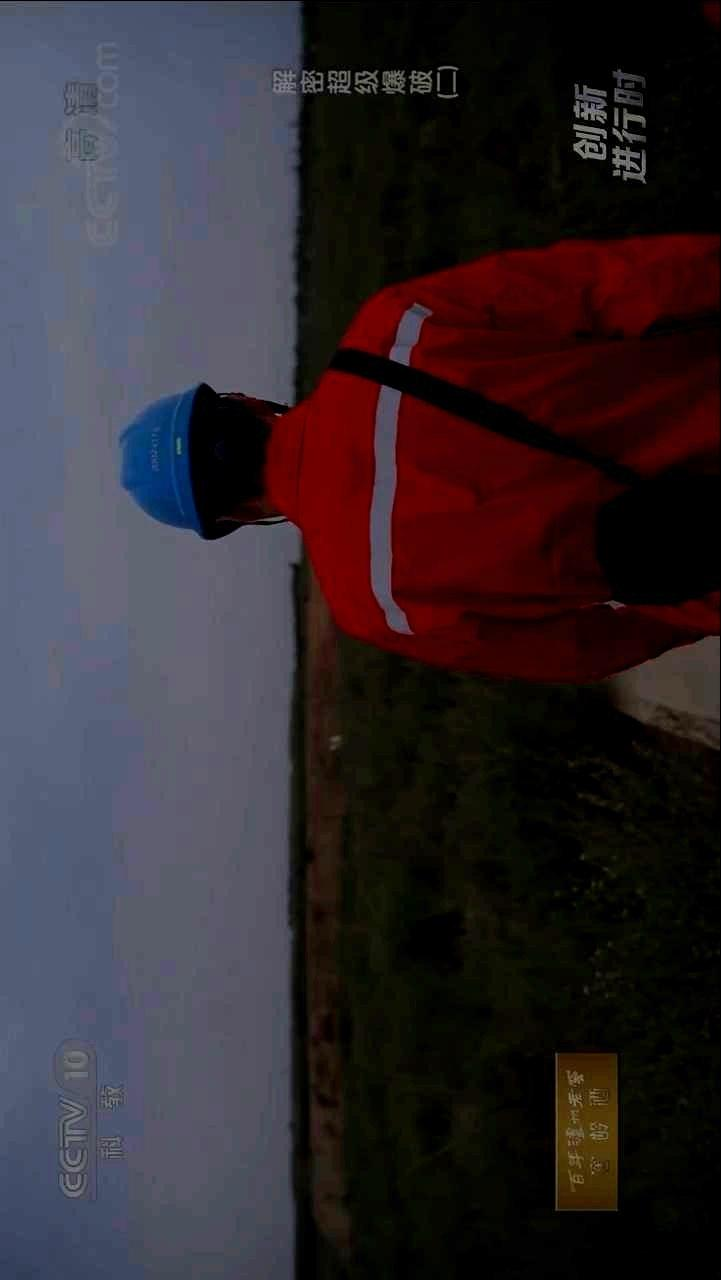helmet: (116, 381, 279, 540)
